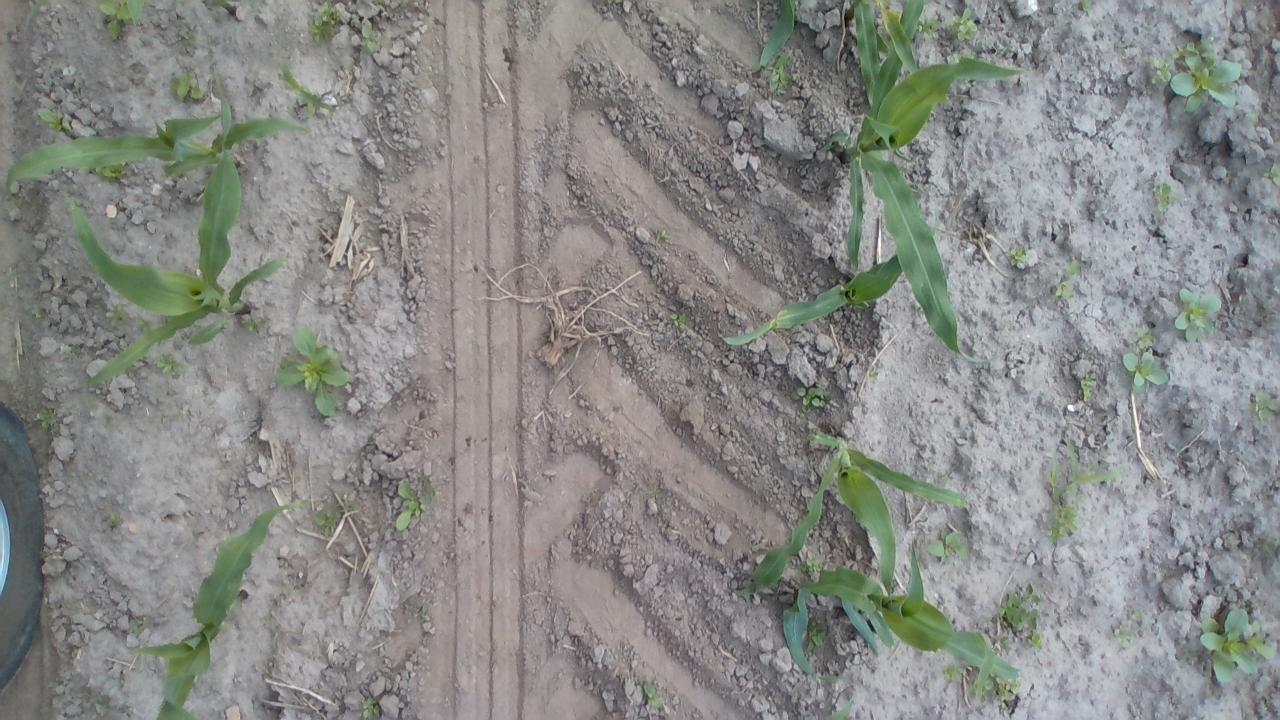Maize: (724, 1, 1025, 358), (740, 432, 1034, 700), (61, 105, 290, 390), (140, 499, 306, 720), (8, 106, 302, 202)
Weeds: (1044, 434, 1132, 548), (1151, 35, 1240, 119), (272, 326, 352, 418), (1198, 605, 1276, 691), (1119, 326, 1173, 395), (1000, 582, 1052, 648), (1174, 286, 1225, 348), (394, 476, 441, 528), (310, 498, 362, 544), (949, 666, 1016, 699), (1044, 261, 1084, 308), (97, 1, 141, 43), (170, 65, 212, 107), (310, 3, 346, 45), (927, 526, 968, 562), (953, 6, 981, 50), (1254, 384, 1280, 426), (634, 684, 679, 708), (1110, 620, 1140, 656), (150, 350, 186, 380), (356, 25, 384, 62), (793, 377, 826, 408), (1004, 236, 1030, 274), (33, 406, 67, 435), (807, 619, 830, 659), (914, 12, 940, 47), (1072, 369, 1098, 402), (1150, 179, 1174, 214), (800, 552, 826, 581), (666, 311, 694, 337), (356, 700, 391, 717), (102, 304, 130, 324), (1266, 158, 1280, 189)
